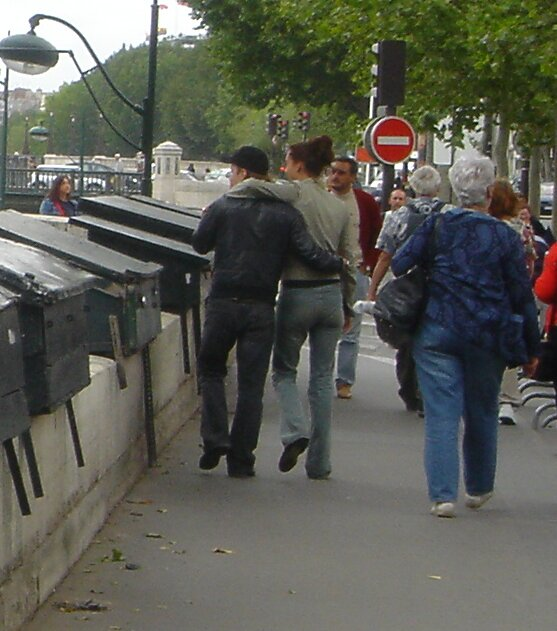person: (402, 154, 517, 514), (261, 135, 364, 484), (197, 142, 283, 475)
